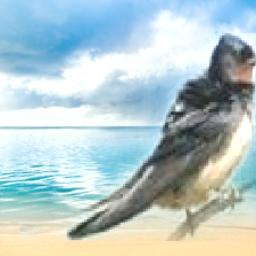Swallow: (18, 34, 256, 242)
